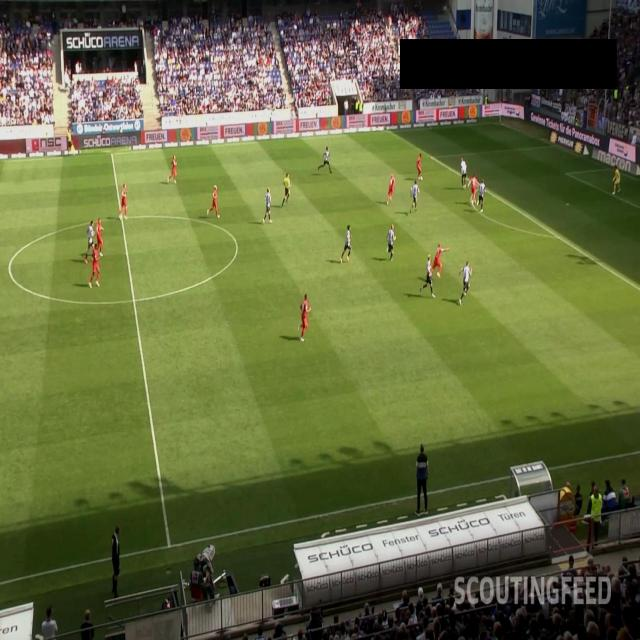goalkeeper: (612, 164, 620, 195)
player: (420, 253, 436, 299), (430, 243, 450, 279), (88, 242, 102, 289), (458, 260, 472, 306), (300, 293, 311, 341), (206, 184, 220, 218), (341, 224, 352, 264), (85, 220, 95, 260), (318, 146, 332, 174), (468, 175, 480, 207), (262, 187, 272, 225), (388, 223, 397, 261), (119, 182, 128, 219), (386, 173, 396, 205), (410, 179, 420, 211), (477, 178, 486, 212), (96, 217, 104, 255), (167, 154, 177, 184), (460, 157, 468, 189), (416, 153, 423, 181)
referee: (281, 172, 291, 208)
